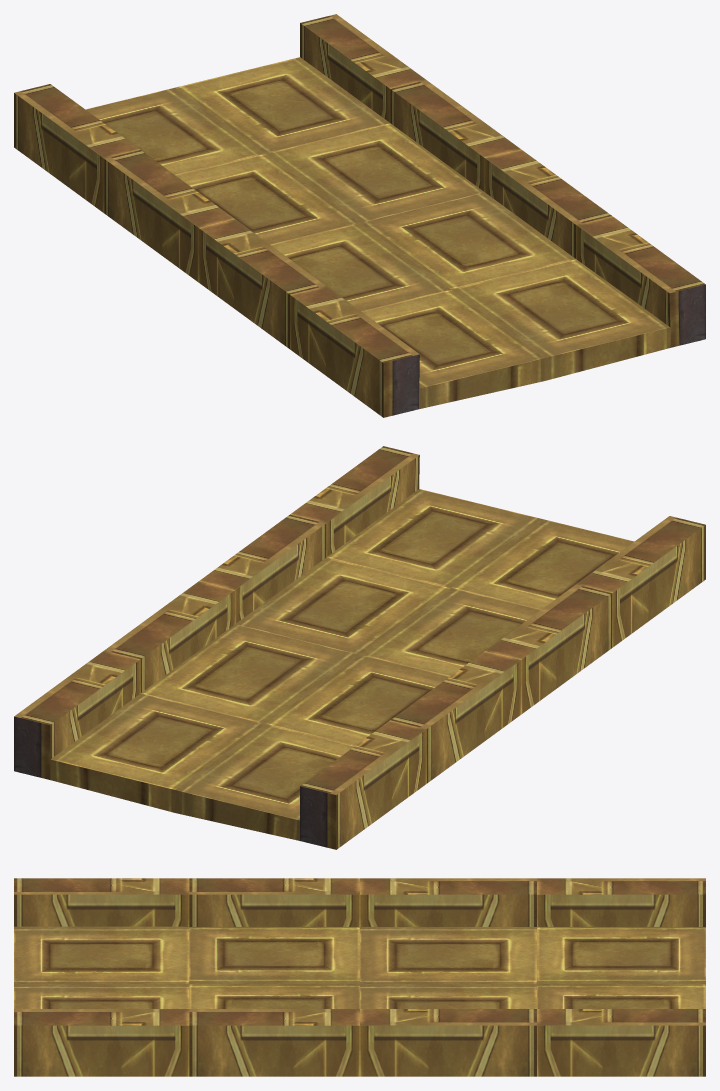
The model's file is G_jitan0015.fbx.
3 views of the same model, one above another, from view 1: azimuth 30°, elevation 25°; view 2: azimuth 150°, elevation 25°; view 3: azimuth 270°, elevation 25° (orthographic). The views are drawn at different scales.
Visible parts, largest first — view 1: G_jitan0015; view 2: G_jitan0015; view 3: G_jitan0015.
Boxes of the visible parts, box(x1,y1,x2,y2) form: G_jitan0015: box(14, 14, 705, 417); G_jitan0015: box(14, 446, 705, 849); G_jitan0015: box(14, 878, 705, 1076).
Size of the model in its own units: 1.84 by 0.3122 by 3.65.
